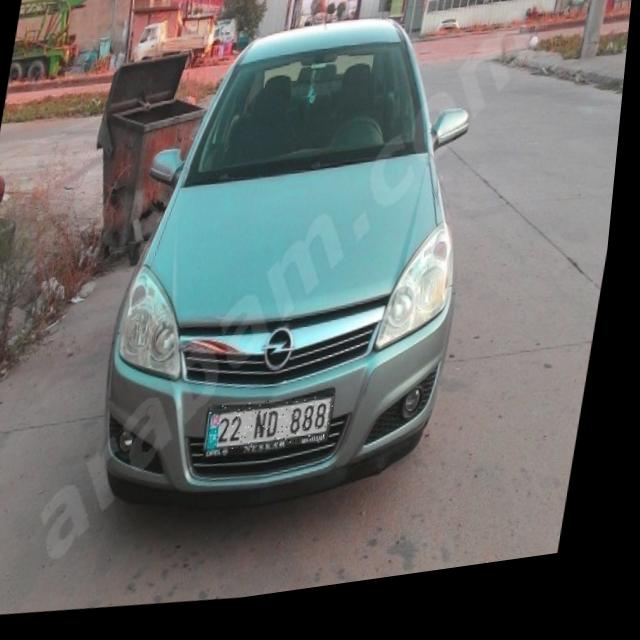license_plate: (211, 398, 344, 467)
